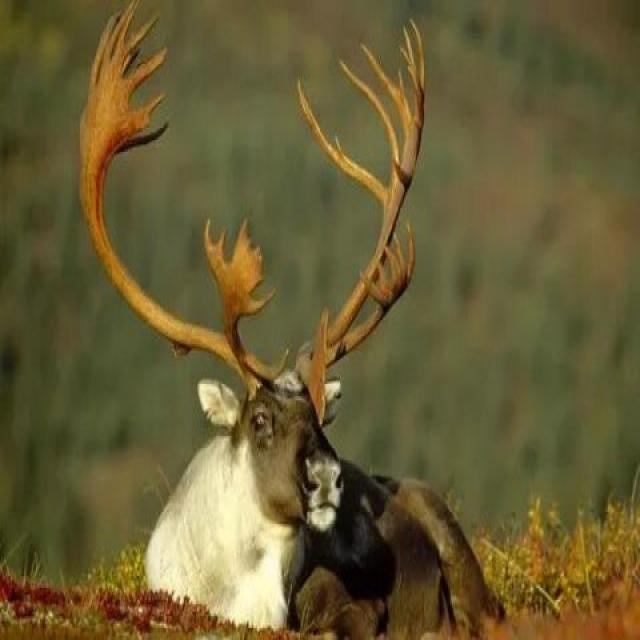deer: (113, 108, 454, 640)
